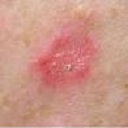Carcinoma: (48, 49, 87, 80)
